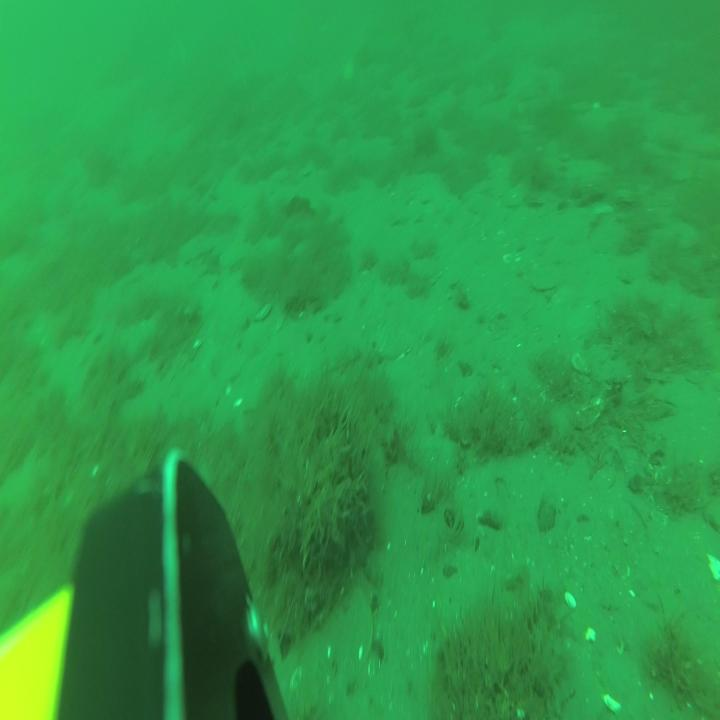scallop: (333, 587, 372, 684), (244, 324, 266, 354), (534, 272, 556, 296)
